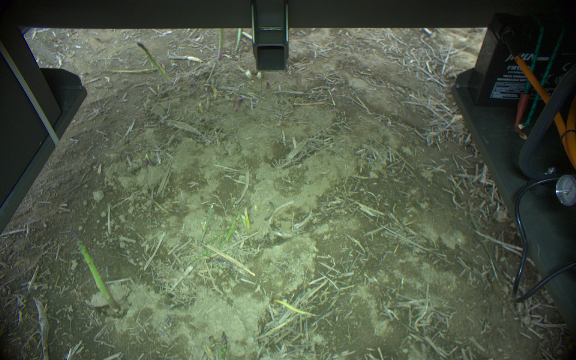aspa: (67, 228, 119, 312), (135, 41, 171, 83), (199, 205, 213, 243), (214, 28, 226, 62), (219, 329, 229, 360), (234, 29, 244, 55)
